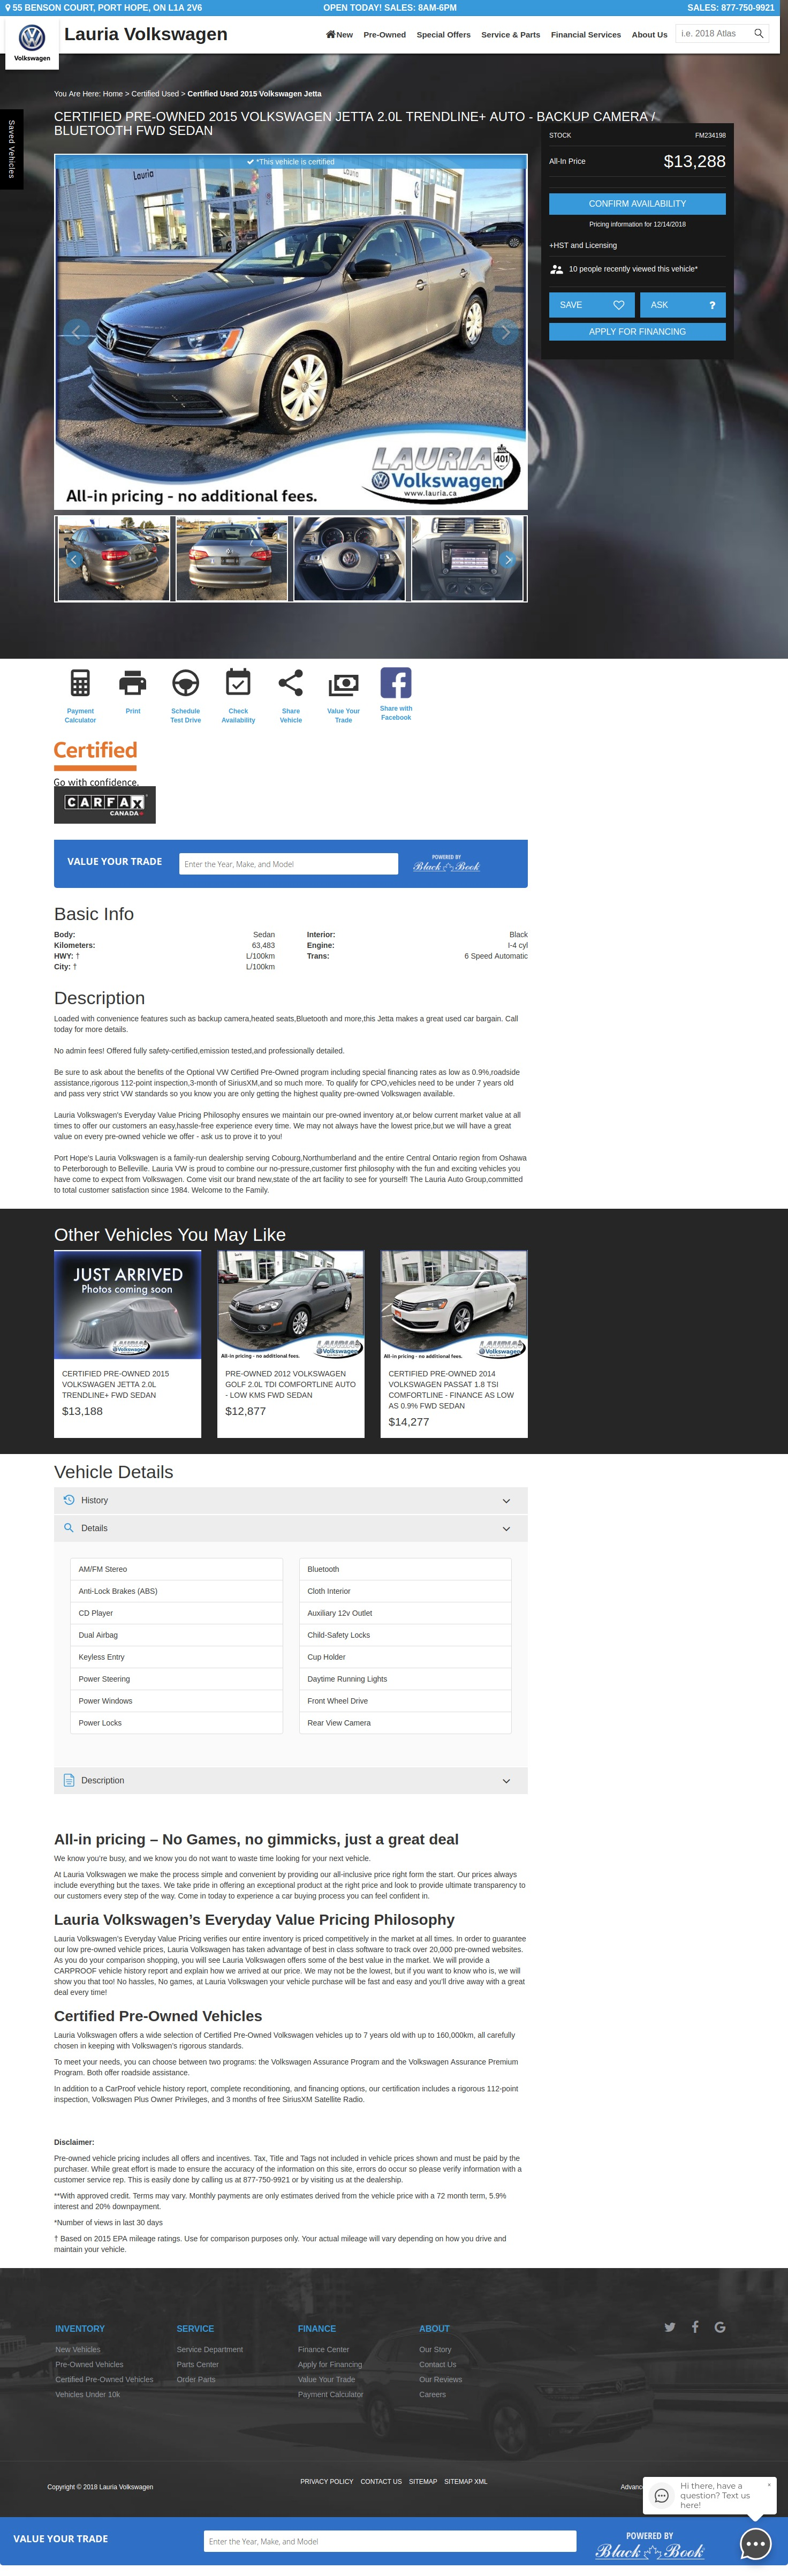car: (506, 555, 512, 565)
